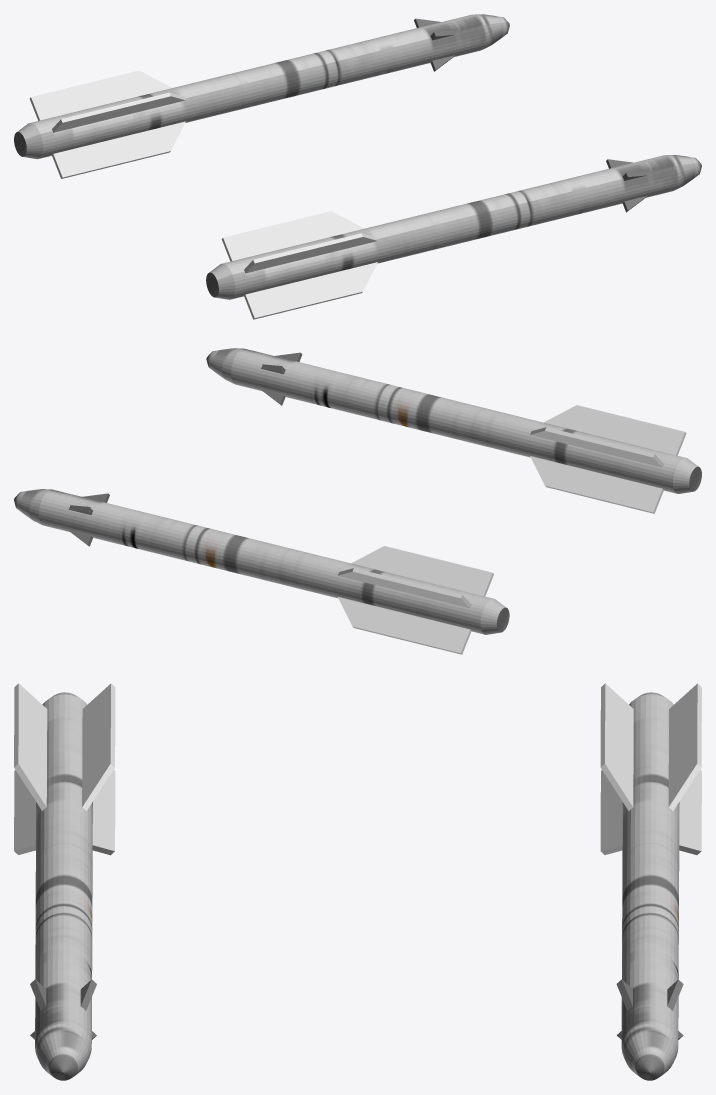
The picture shows the model from 3 angles, top to bottom: view 1: azimuth 30°, elevation 25°; view 2: azimuth 150°, elevation 25°; view 3: azimuth 270°, elevation 25°; orthographic projection. The views are drawn at different scales.
Visible parts, largest first — view 1: 円柱.026, 円柱.025; view 2: 円柱.026, 円柱.025; view 3: 円柱.026, 円柱.025.
Boxes of the visible parts, left/top/right/bottom form: 円柱.026: left=206, top=155, right=701, bottom=319; 円柱.025: left=14, top=14, right=509, bottom=178; 円柱.026: left=206, top=348, right=701, bottom=513; 円柱.025: left=14, top=489, right=509, bottom=654; 円柱.026: left=14, top=683, right=115, bottom=1080; 円柱.025: left=600, top=683, right=701, bottom=1080.
Size of the model in its own units: 3.52 by 0.4148 by 2.81.
Materials: 2 (1 with a texture image).
